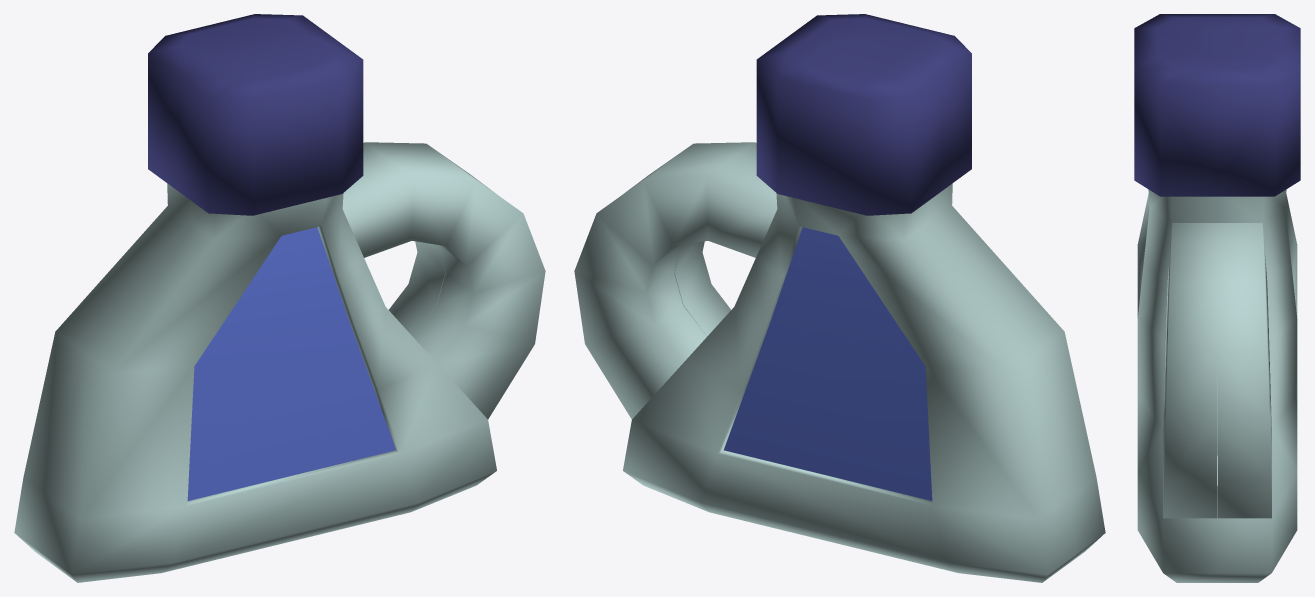
The model's file is MDL_Detergent.fbx.
3 views of the same model, side by side, from view 1: azimuth 30°, elevation 25°; view 2: azimuth 150°, elevation 25°; view 3: azimuth 270°, elevation 25° (orthographic). The views are drawn at different scales.
Parts seen in each view (by area): view 1: Plane; view 2: Plane; view 3: Plane.
Part boxes in pixels (x1,y1,x2,y2): Plane: (14,14,545,582); Plane: (574,14,1105,582); Plane: (1134,14,1300,582).
Bounding box in the file's own units: 81.7 × 77.04 × 25.98.
